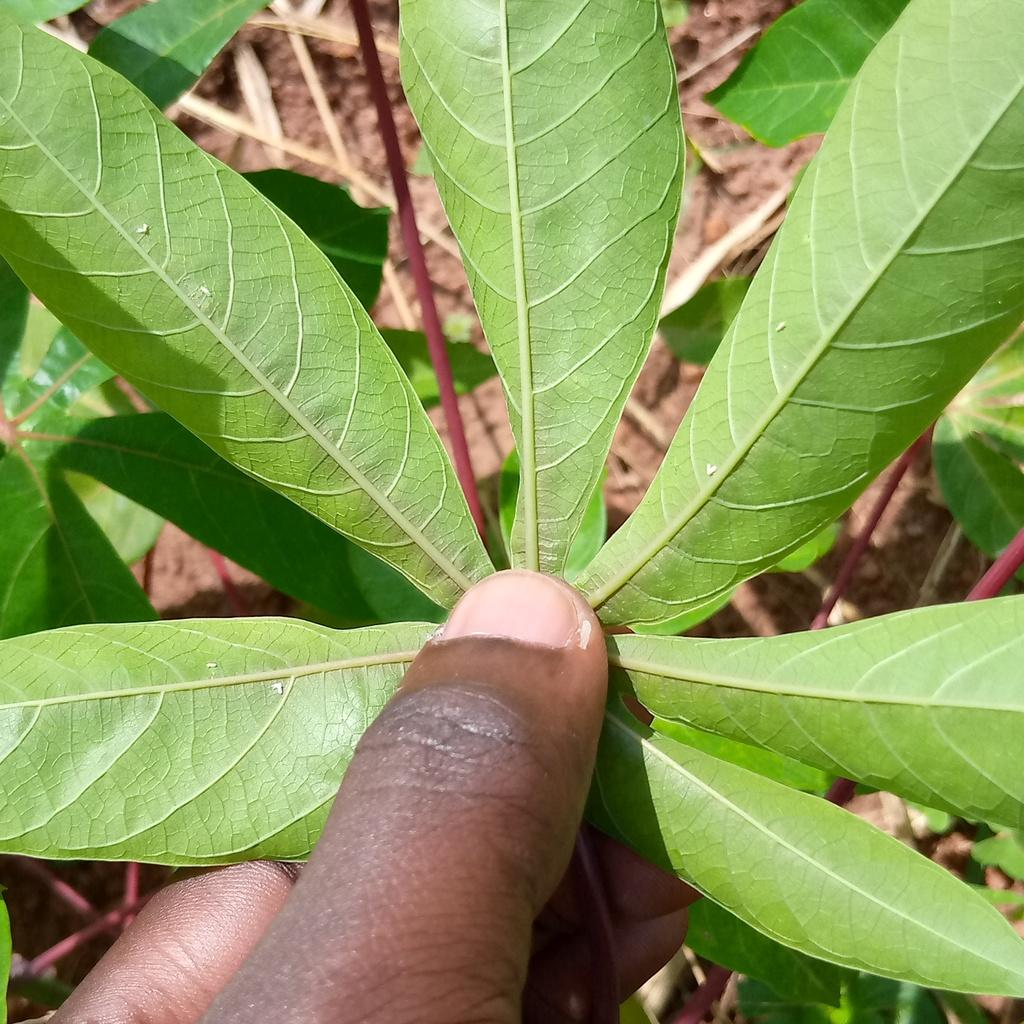adult: (270, 682, 283, 695), (706, 463, 718, 476), (136, 223, 149, 234), (198, 286, 211, 297), (775, 321, 787, 332), (206, 662, 217, 669)
